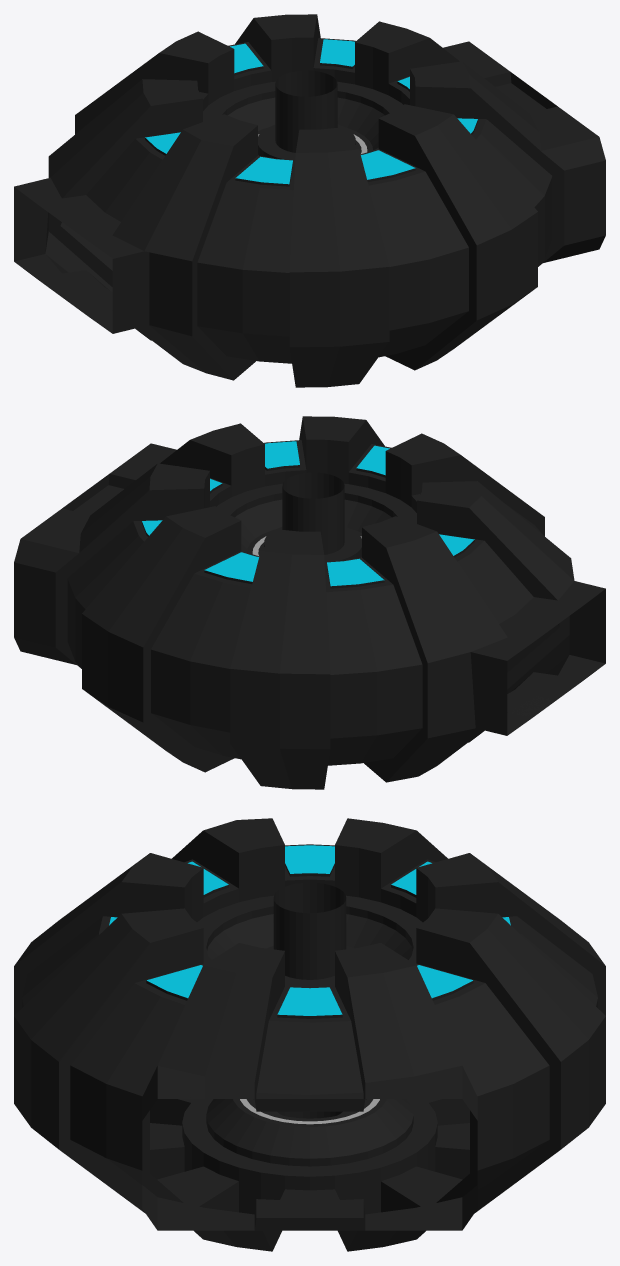
Rendered from SM_BattleshipCoreReactor.FBX.
3 views of the same model, one above another, from view 1: azimuth 30°, elevation 25°; view 2: azimuth 150°, elevation 25°; view 3: azimuth 270°, elevation 25° (orthographic). The views are drawn at different scales.
Visible parts, largest first — view 1: CoreReactor; view 2: CoreReactor; view 3: CoreReactor.
Boxes of the visible parts, bbox=[...] form: CoreReactor: bbox=[14, 14, 605, 387]; CoreReactor: bbox=[14, 416, 605, 789]; CoreReactor: bbox=[14, 818, 605, 1251].
Bounding box in the file's own units: 10513 × 5500 × 9785.
